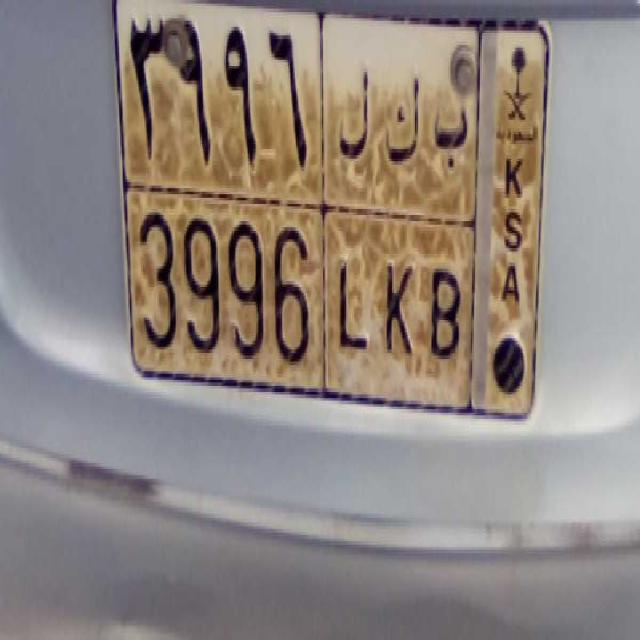license_plate: (123, 185, 472, 405)
